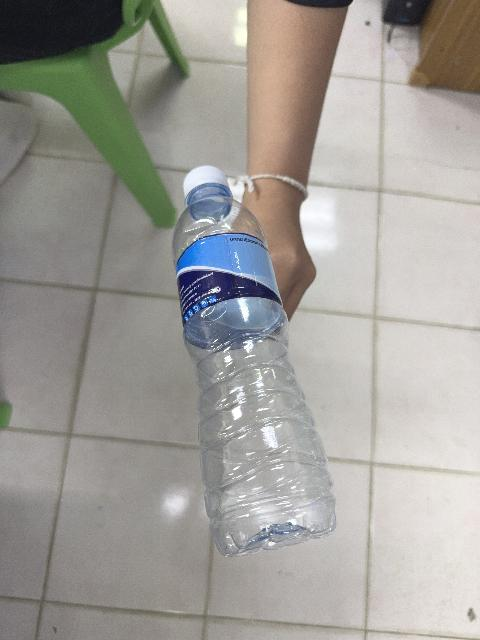bottle: (172, 167, 334, 556)
